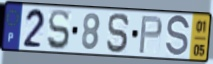2: (20, 6, 48, 51)
8: (80, 12, 101, 52)
P: (138, 15, 164, 56)
S: (164, 14, 191, 59), (105, 11, 131, 55), (46, 8, 71, 52)
